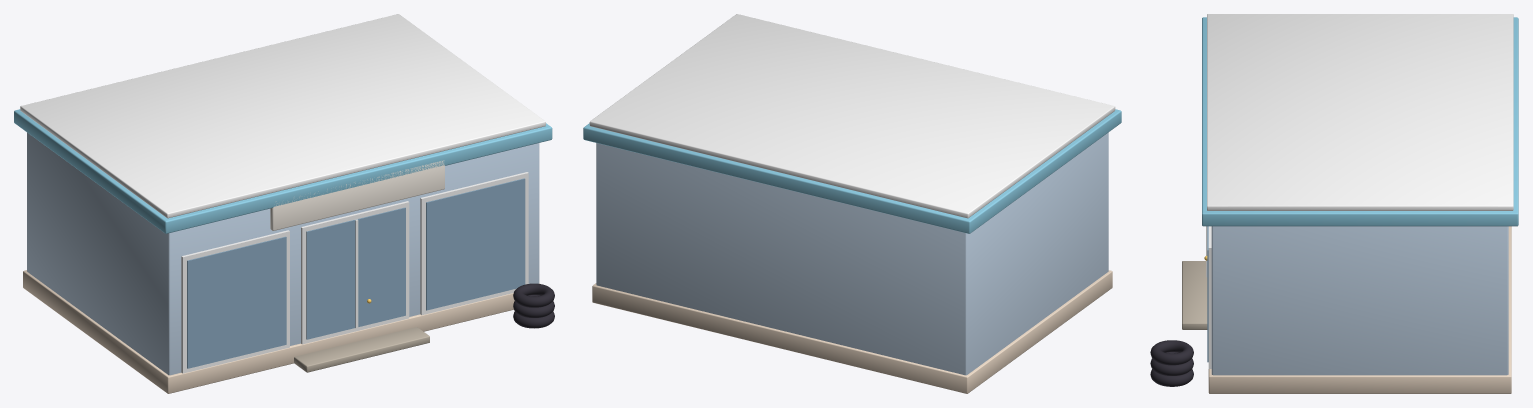
Rendered from shop_autohaus.glb.
3 views of the same model, side by side, from view 1: azimuth 30°, elevation 25°; view 2: azimuth 150°, elevation 25°; view 3: azimuth 270°, elevation 25° (orthographic). The views are drawn at different scales.
Parts seen in each view (by area): view 1: shop_autohaus; view 2: shop_autohaus; view 3: shop_autohaus.
Boxes of the visible parts, <box> form: shop_autohaus: <box>14,14,554,393</box>; shop_autohaus: <box>583,14,1121,393</box>; shop_autohaus: <box>1150,14,1518,393</box>.
Bounding box in the file's own units: 9.4 × 4.22 × 7.44.
